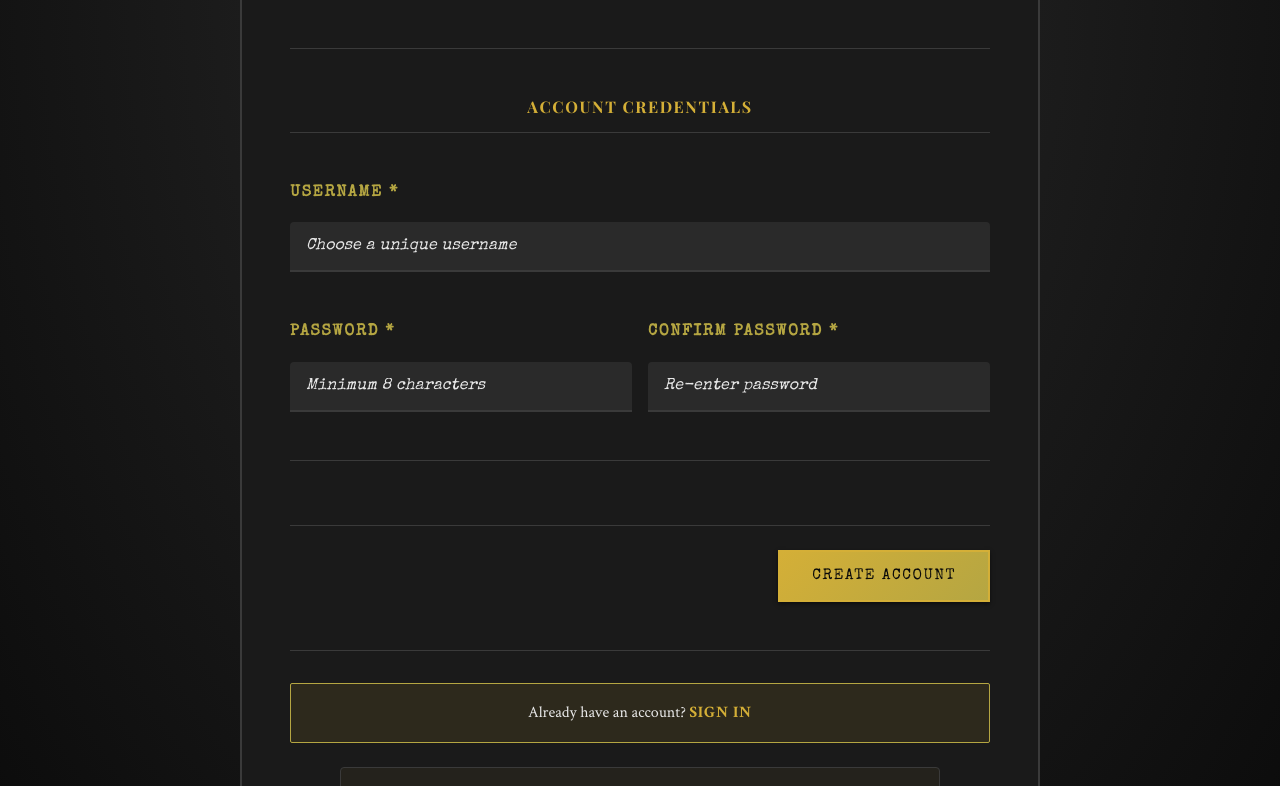
it: Register Component › validates password confirmation match
(page scrolled)
Step 1. Type "SecurePass123" into the password field labelled "Password *" → (461, 387), box left=290, top=362, right=632, bottom=412
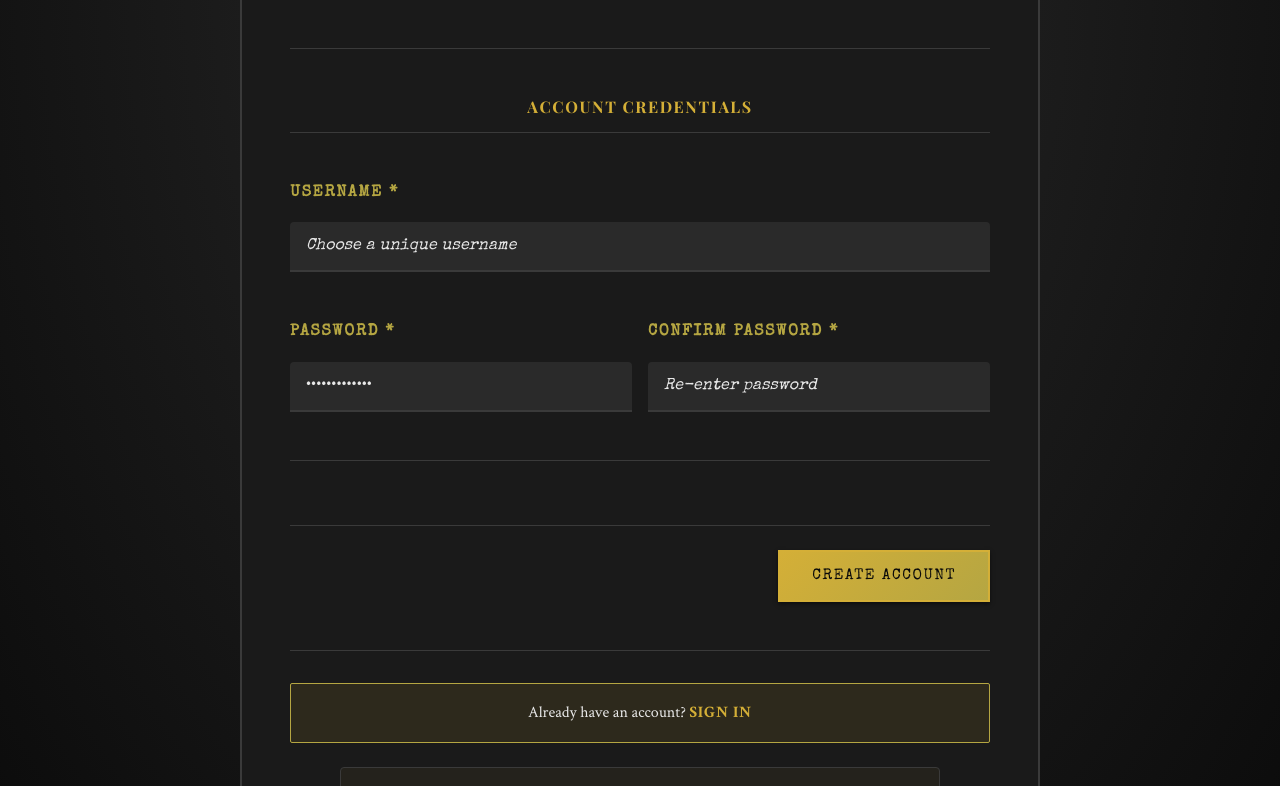
Step 2. Type "DifferentPass123" into the password field labelled "Confirm Password *" → (819, 387), box left=648, top=362, right=990, bottom=412
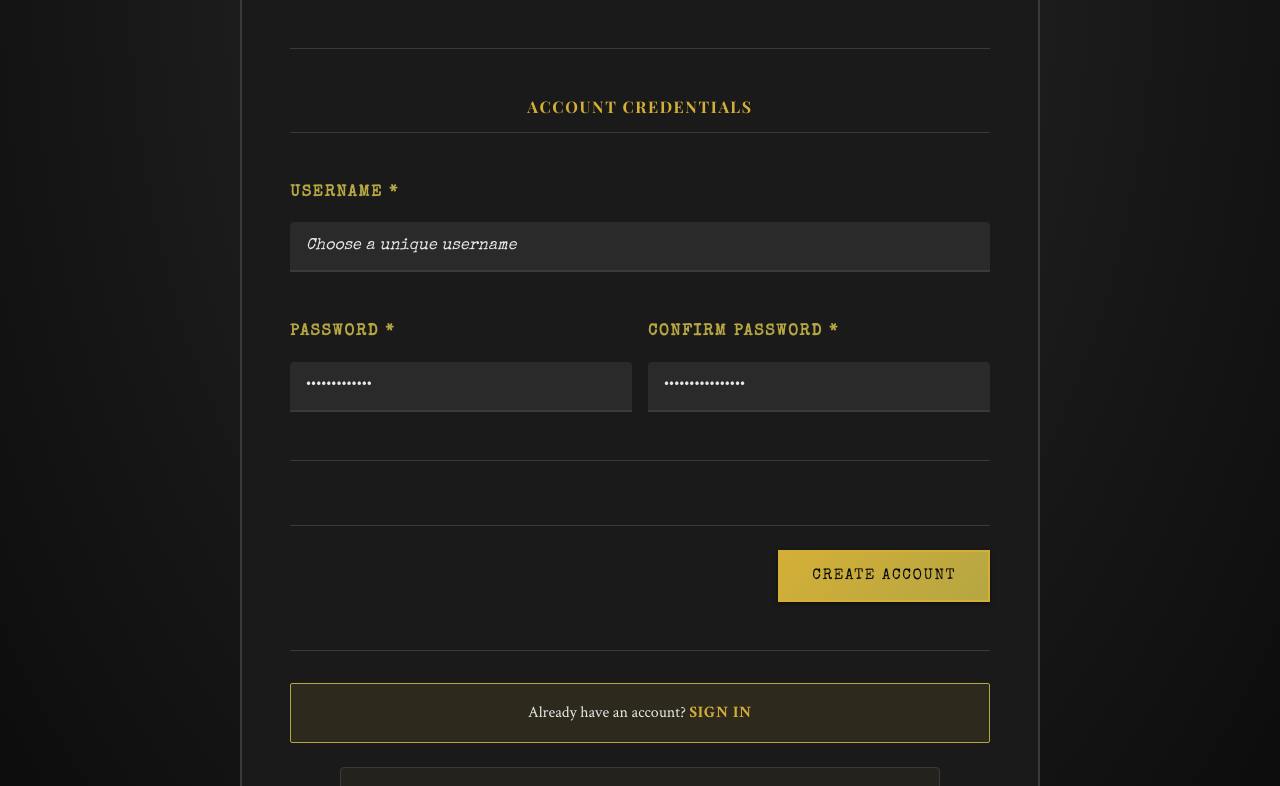
Step 3. Click the button "Create Account" → (884, 576), box left=778, top=550, right=990, bottom=602
(page scrolled)
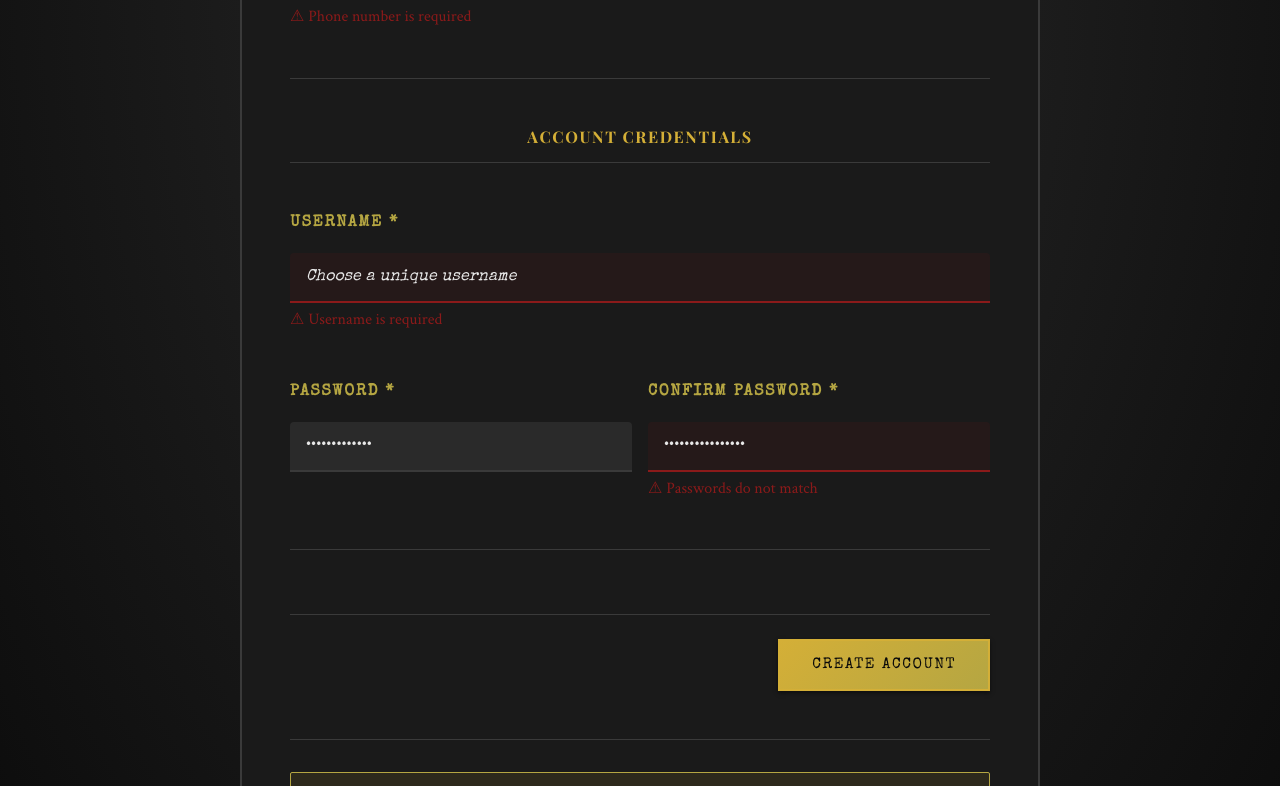
Expected: the text "Passwords do not match" is shown, left=666, top=478, right=818, bottom=499
